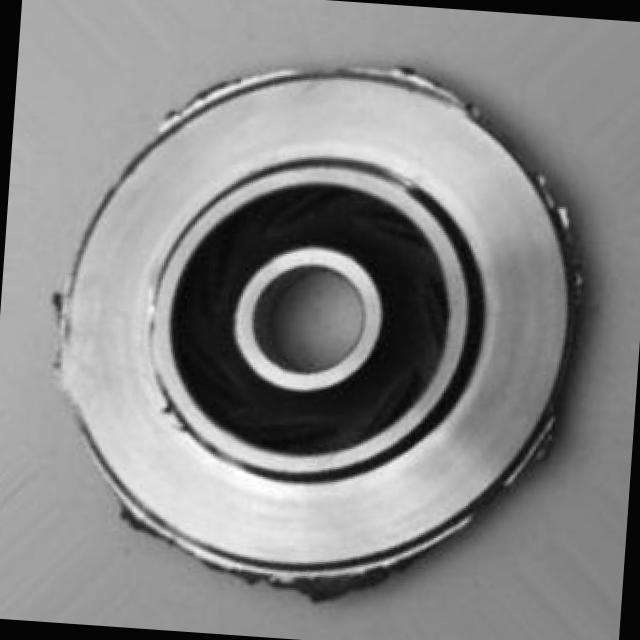Defect: (518, 401, 559, 490)
